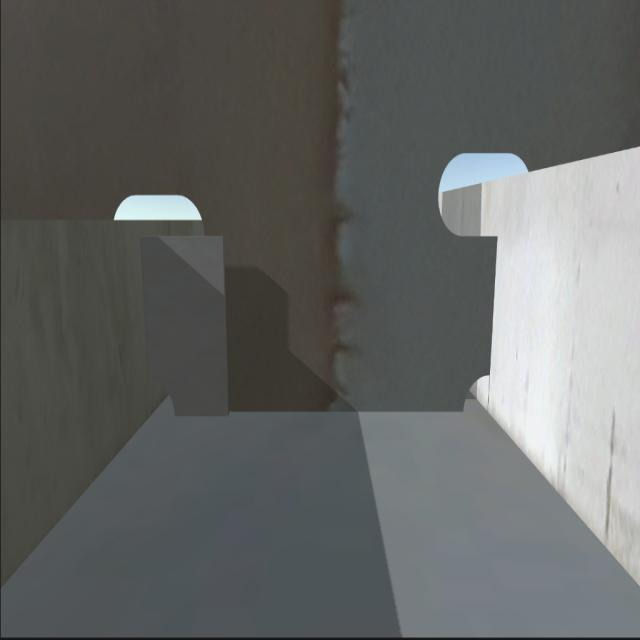fillet_hole: (455, 366, 491, 412), (145, 376, 179, 420)
fillet_yong_jeop_jang: (172, 405, 461, 422)
longi_yong_jeop_jang: (139, 239, 159, 383), (487, 233, 498, 372)
plate_CP01: (142, 239, 229, 413)
